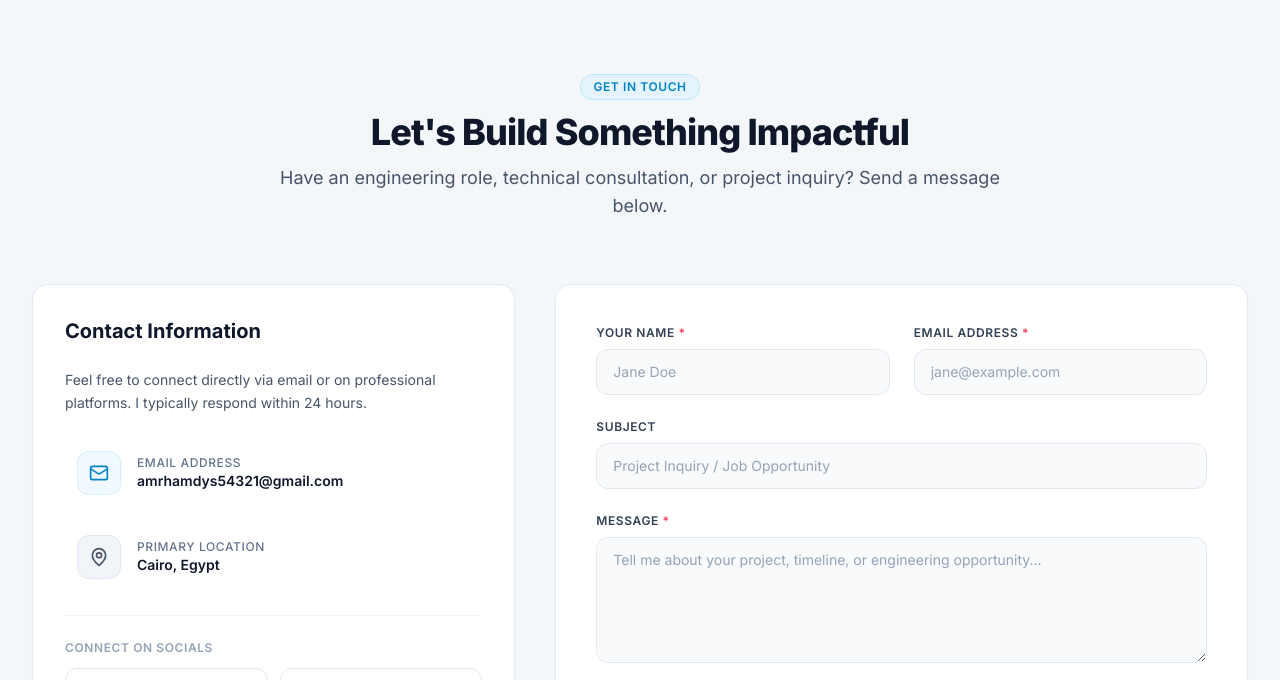
Test: Contact Component › displays validation error if email address is invalid
This screenshot has width=1280, height=680.
In the field labelled "Your Name *": (743, 372) [596,349,890,395], type "John Doe"
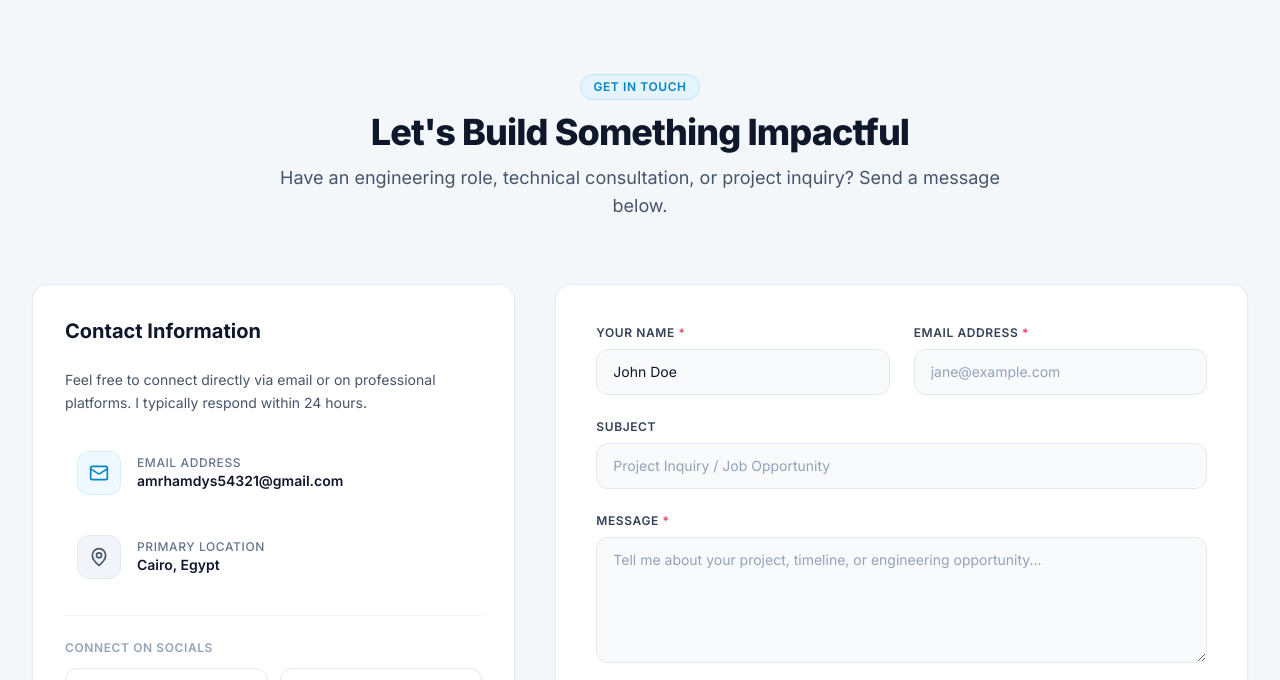
In the field labelled "Email Address *": (1060, 372) [914,349,1207,395], type "invalid-email-string"
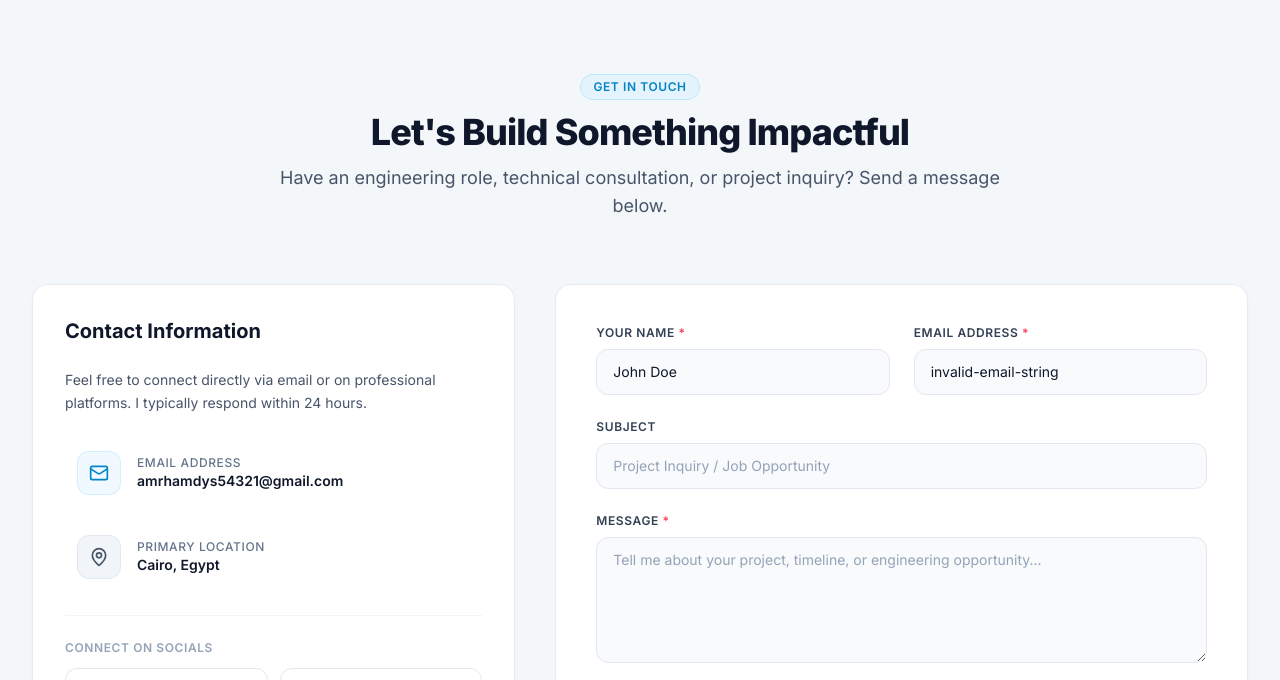
Replace the text in the text box labelled "Message *" with "Hello there!": (902, 600) [596,537,1207,663]
(page scrolled)
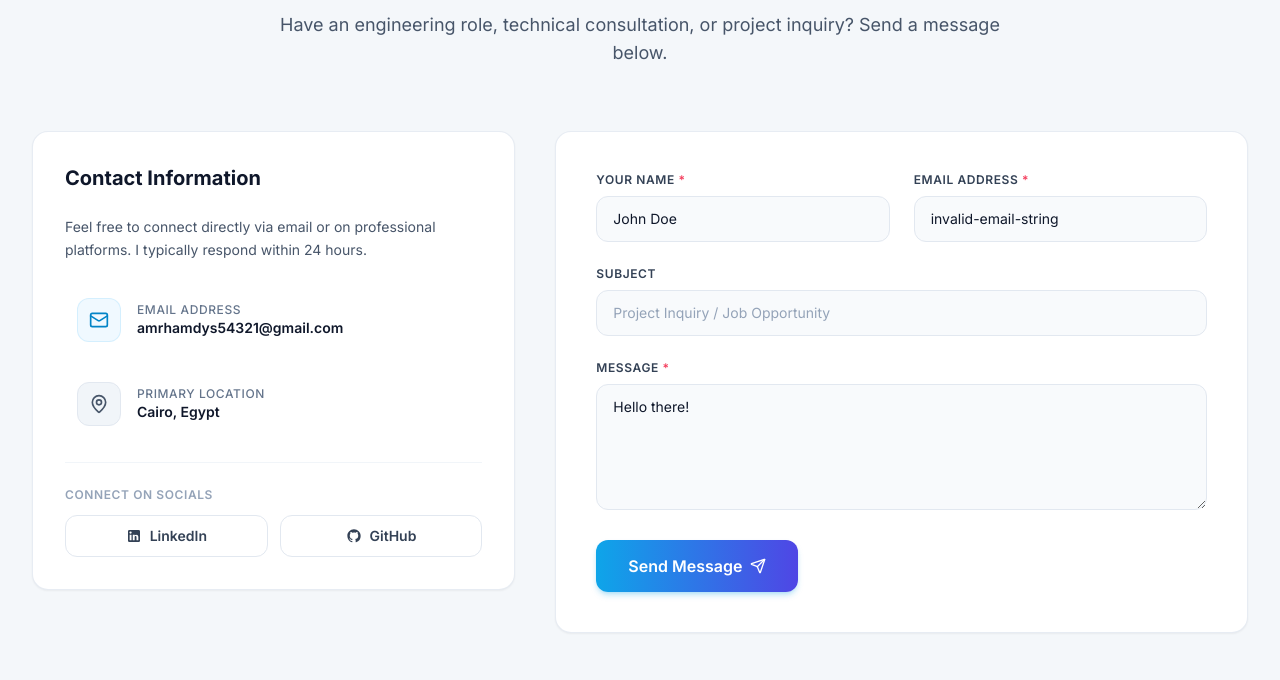
Click the button "Send Message": (697, 566) [596,540,798,592]
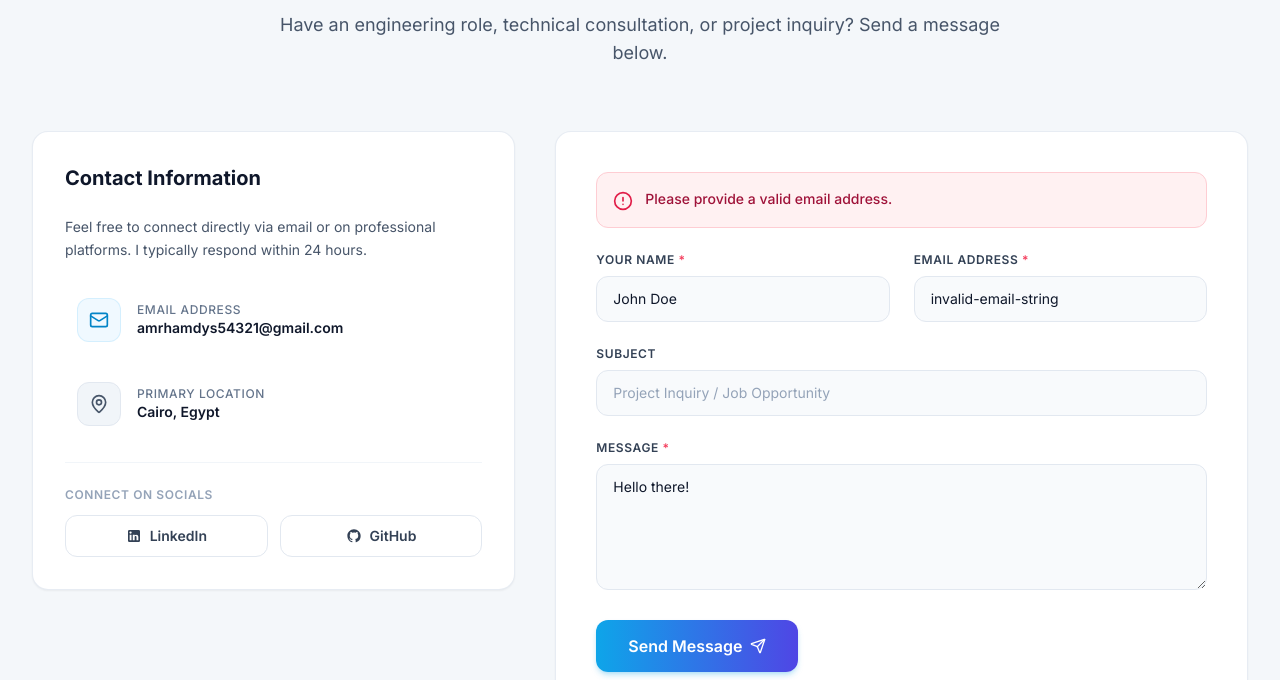
Expected: the message shows "Please provide a valid email address", [645,190,892,207]
